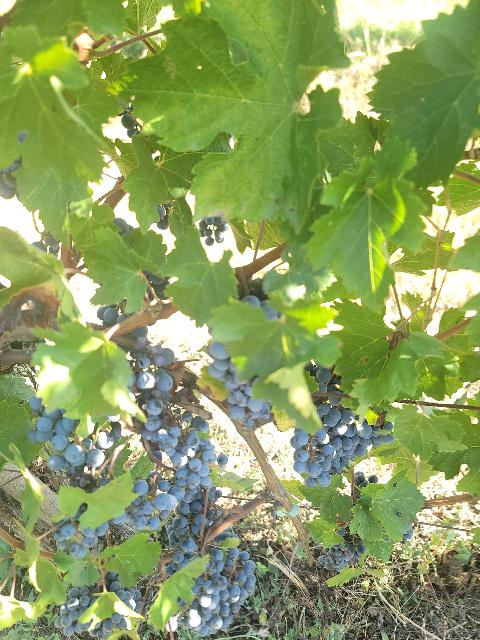grapes: (138, 370, 218, 489), (290, 402, 394, 488), (180, 546, 256, 636), (168, 486, 204, 554)
